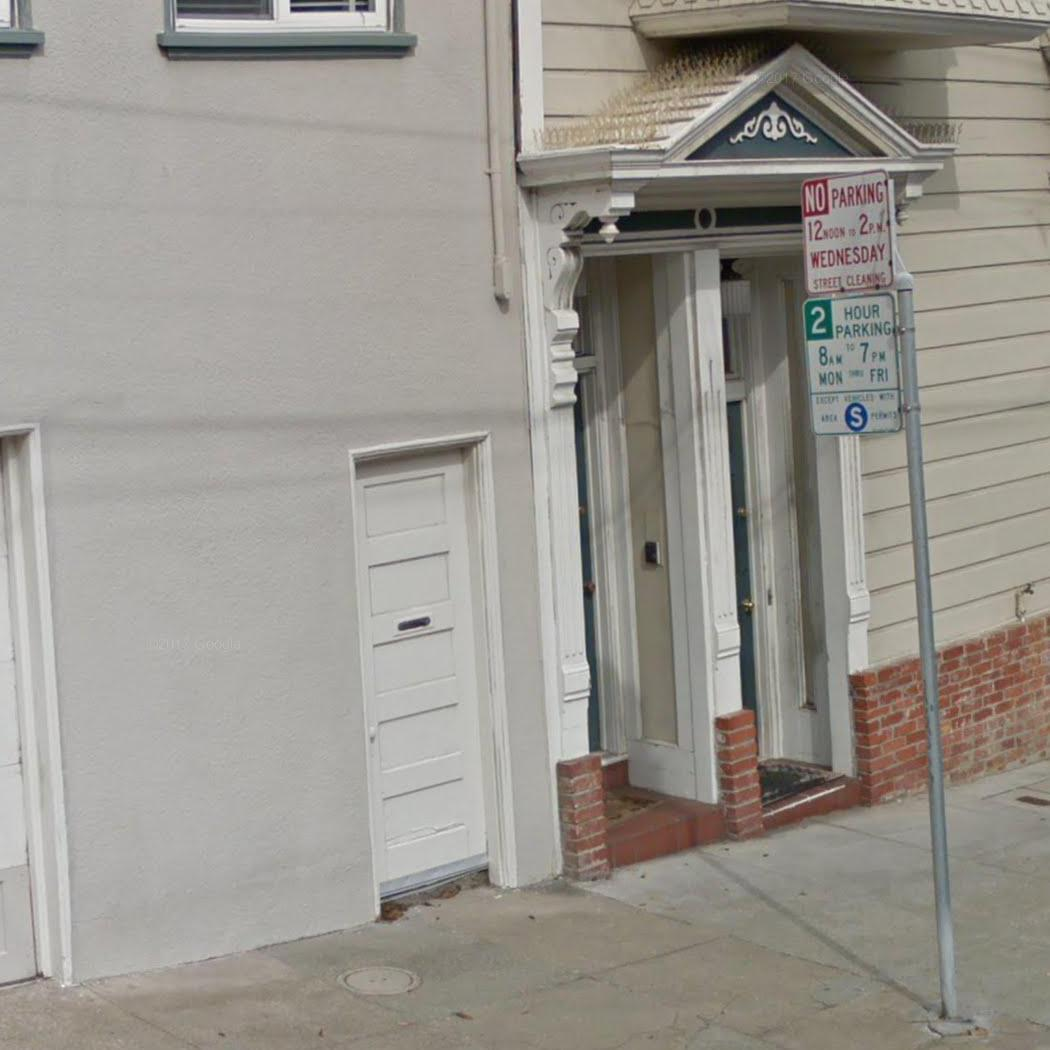2 Hour Parking: (799, 284, 913, 441)
No Parking: (797, 163, 904, 297)
